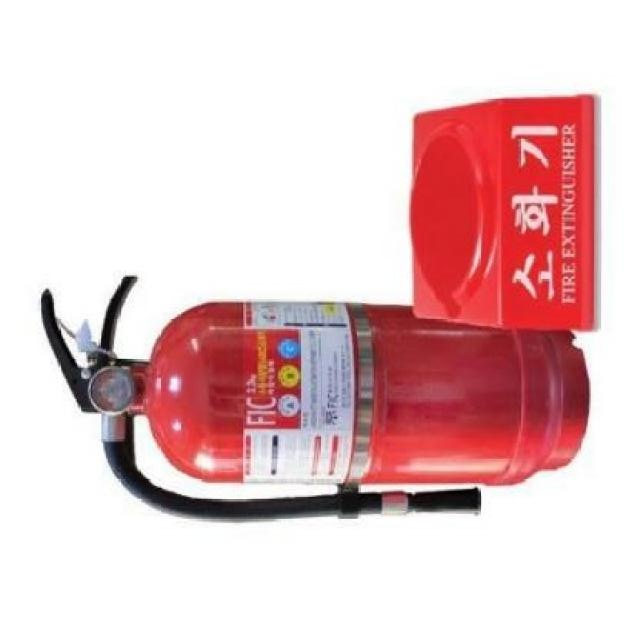fire extinguisher: (38, 275, 594, 522)
